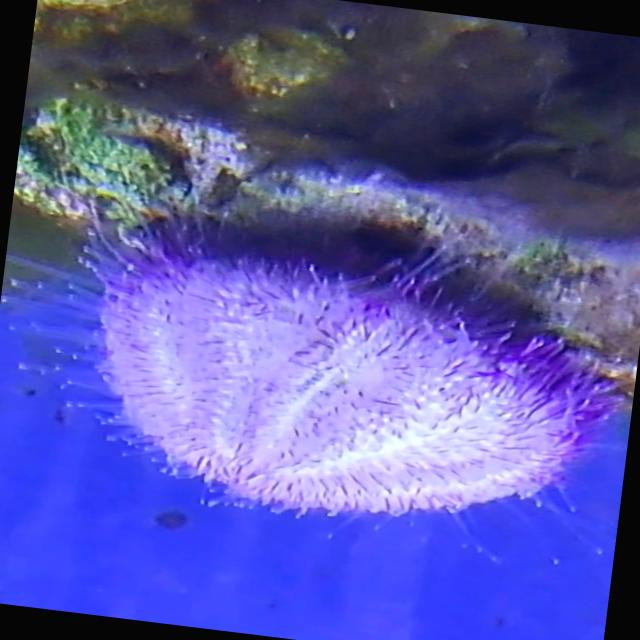Deniz Kestanesi: (25, 195, 612, 572)
